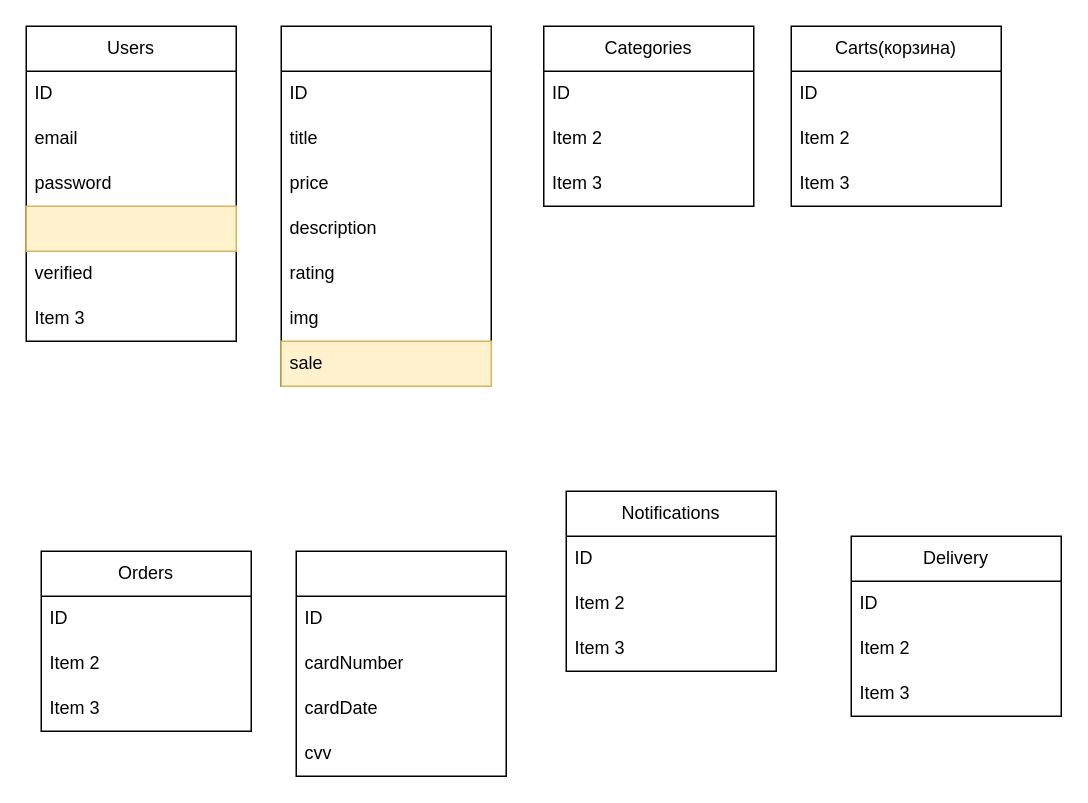
The diagram is 1088 pixels wide and 803 high, and some of its shapes have lost their labels. The box of each missing label's shape, as (x1, y1, x2, y2) in pixels:
Peyments(юMoney): (295, 550, 506, 776)
Products: (280, 25, 491, 386)
refresh_token: (25, 205, 236, 251)
